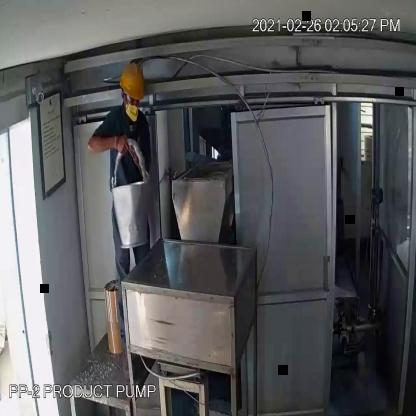helmet: (120, 56, 148, 113)
